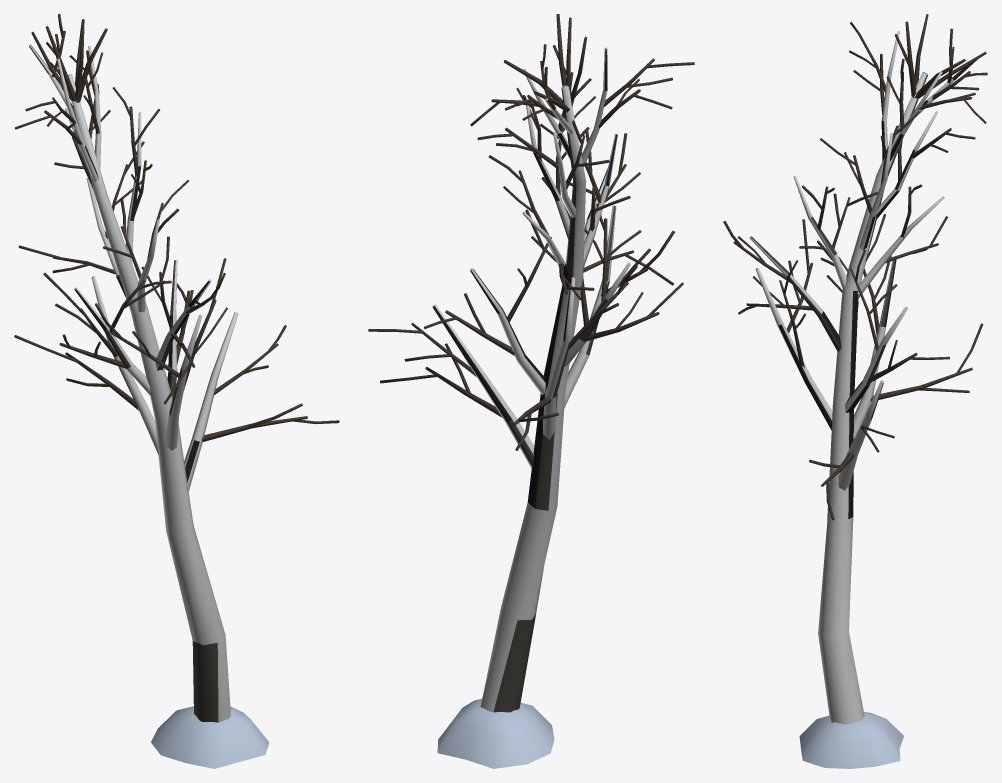
The model's file is birch.glb.
3 views of the same model, side by side, from view 1: azimuth 30°, elevation 25°; view 2: azimuth 150°, elevation 25°; view 3: azimuth 270°, elevation 25° (orthographic). The views are drawn at different scales.
Visible parts, largest first — view 1: Tree; view 2: Tree; view 3: Tree.
Part boxes in pixels (x1,y1,x2,y2): Tree: [14, 14, 339, 768]; Tree: [368, 14, 694, 768]; Tree: [723, 14, 987, 768].
Bounding box in the file's own units: 3.36 × 7.62 × 2.69.
